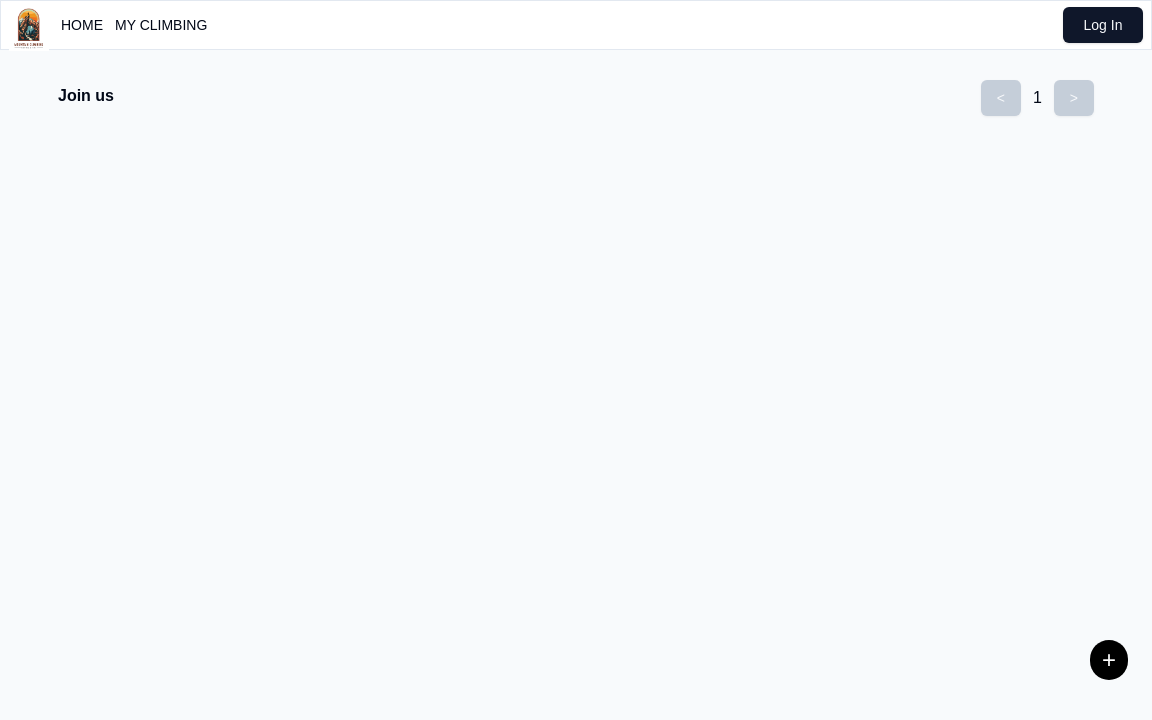
Test: login › should show alert with invalid pw
The image size is (1152, 720).
Click the button "Log In" at {"x": 1103, "y": 25}, box [1063, 7, 1143, 43]
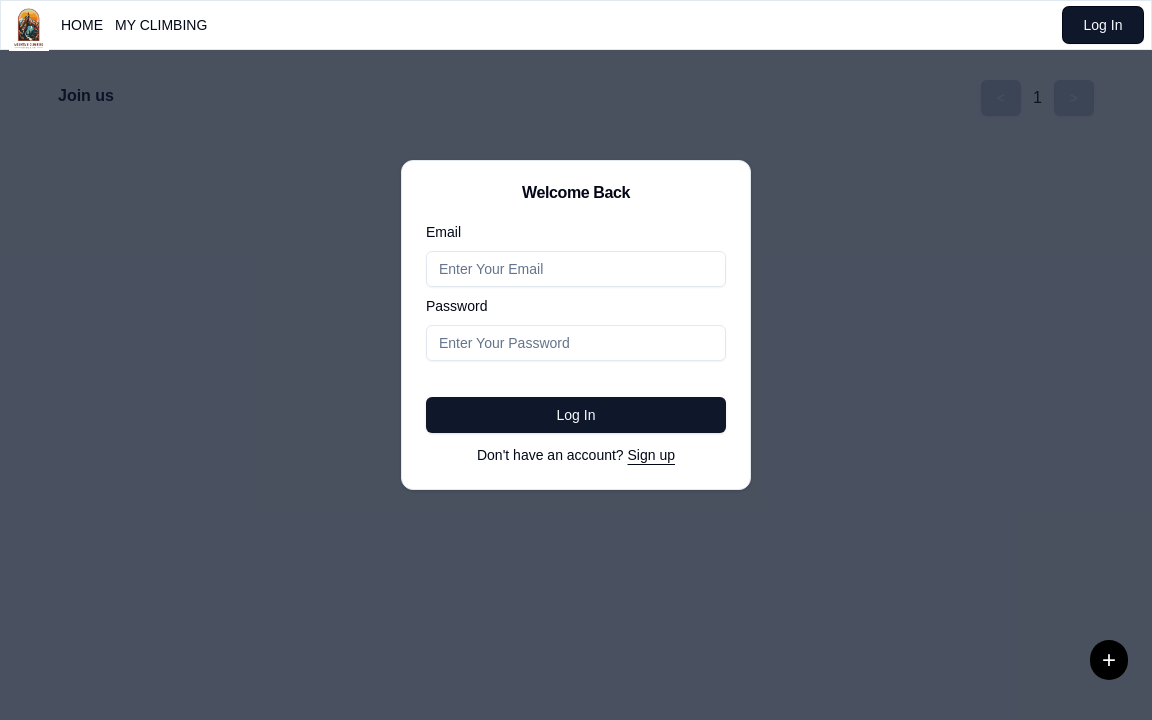
Type "email@email.com" into the field with id "email" at {"x": 576, "y": 269}, box [426, 251, 726, 287]
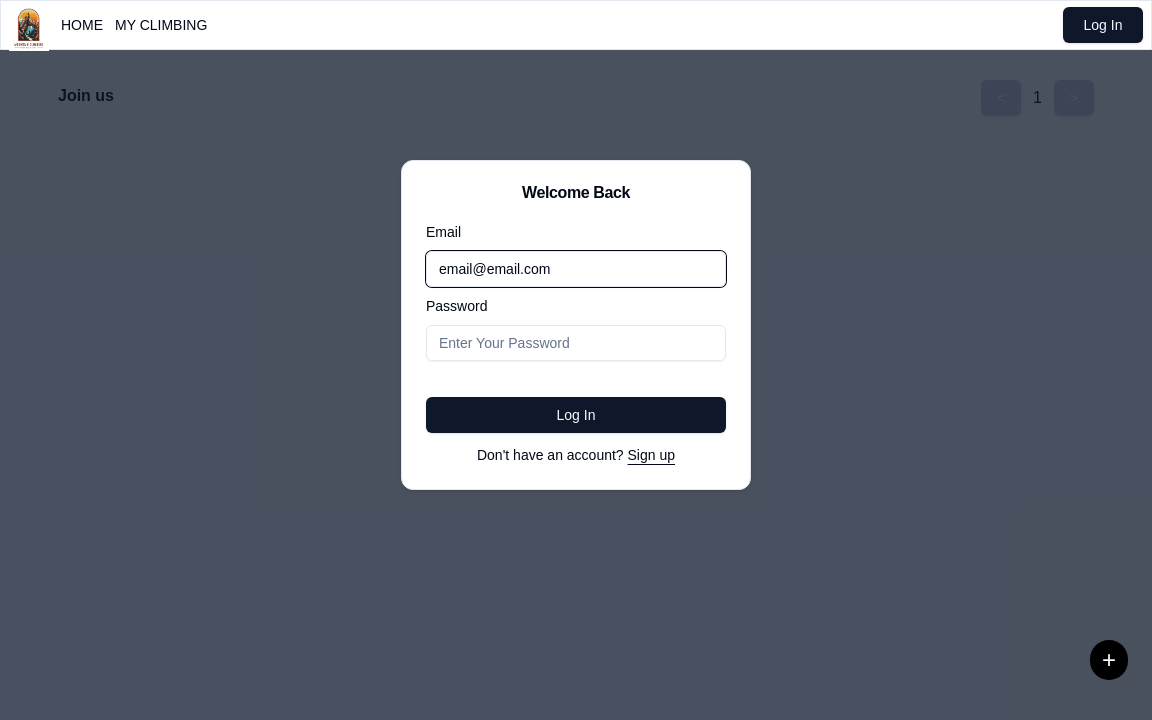
Type "pw" into the password field labelled "Password" at {"x": 576, "y": 343}, box [426, 325, 726, 361]
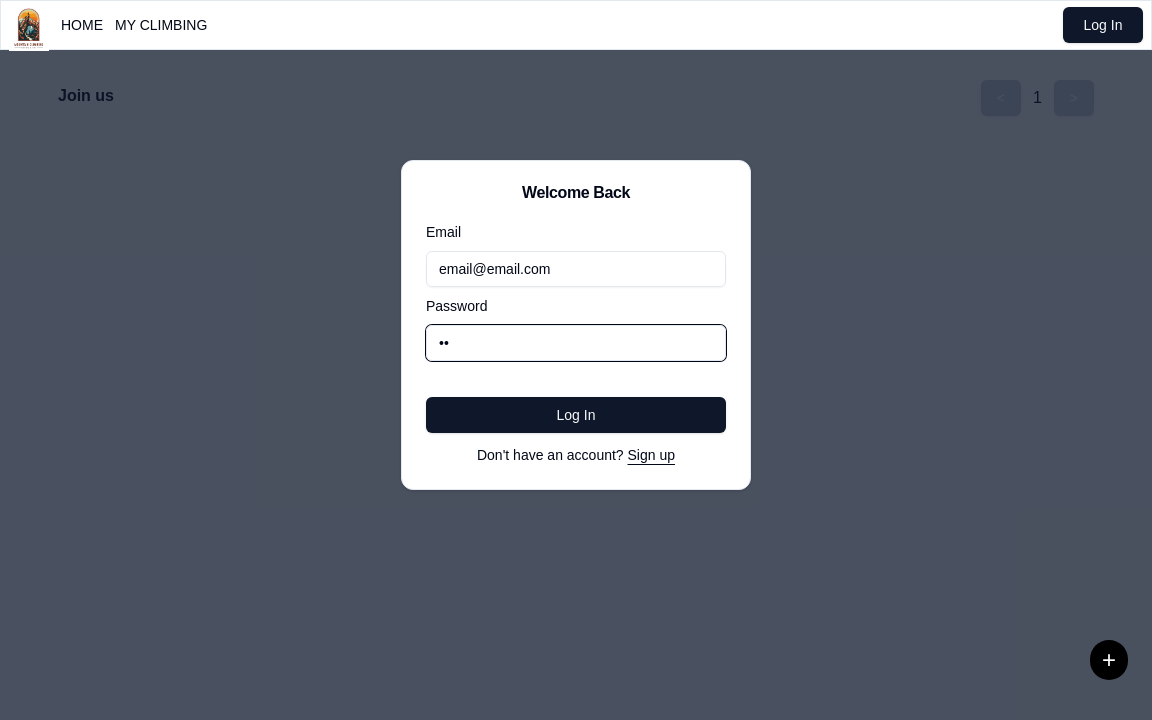
Click the button with class "inline-flex" below "Password" at {"x": 576, "y": 415}, box [426, 397, 726, 433]
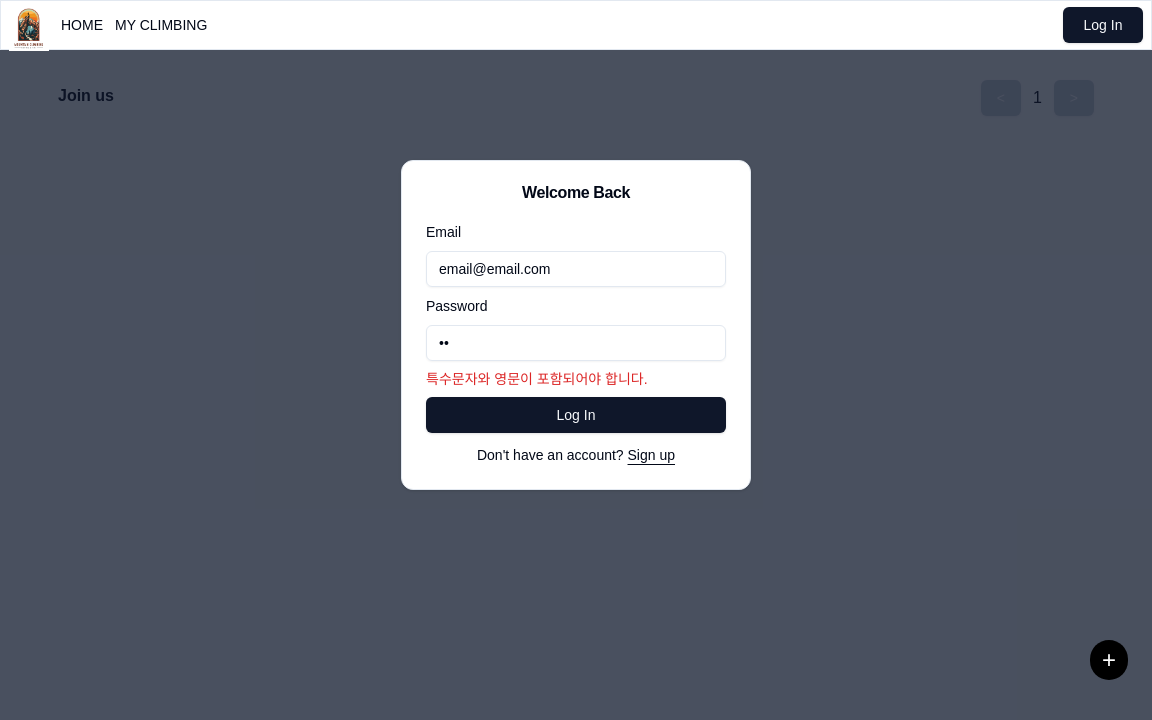
Now the text "특수문자" is shown, box [426, 371, 648, 387]
